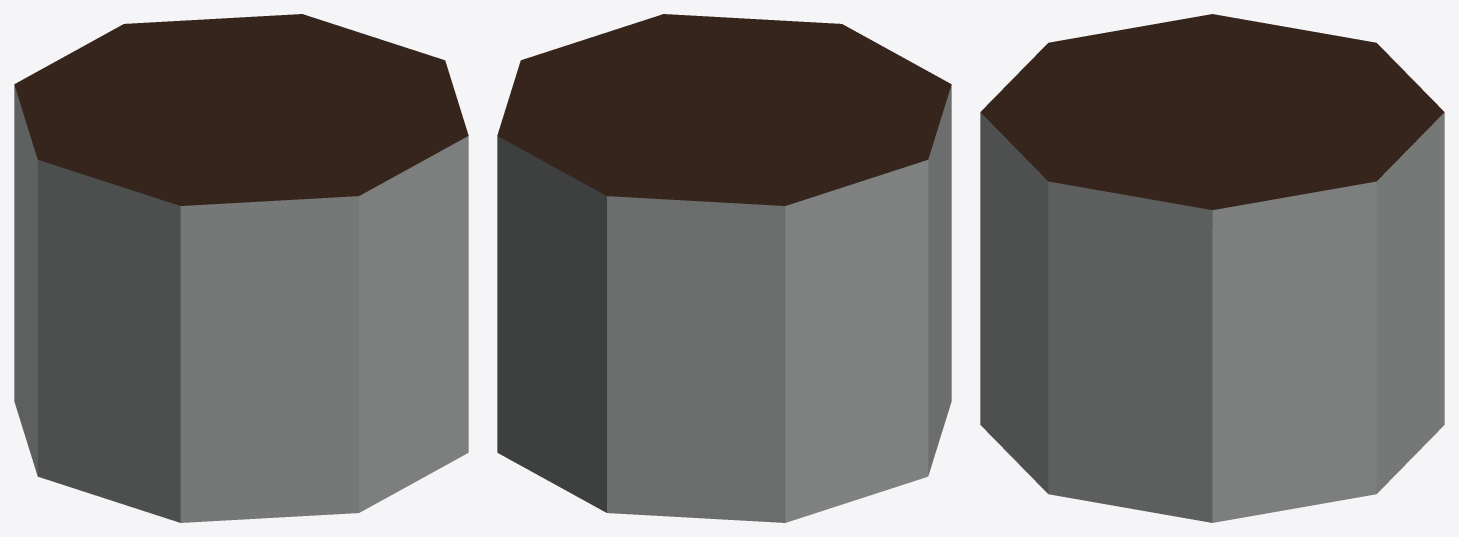
File: gallery.glb
3 renders of one model, left to right at view 1: azimuth 30°, elevation 25°; view 2: azimuth 150°, elevation 25°; view 3: azimuth 270°, elevation 25°, orthographic.
Parts seen in each view (by area): view 1: Cylinder.001; view 2: Cylinder.001; view 3: Cylinder.001.
Part boxes in pixels (left/top/right/bottom): Cylinder.001: left=14, top=14, right=468, bottom=522; Cylinder.001: left=497, top=14, right=951, bottom=522; Cylinder.001: left=980, top=14, right=1444, bottom=522.
Size of the model in its own units: 600 by 446 by 600.
